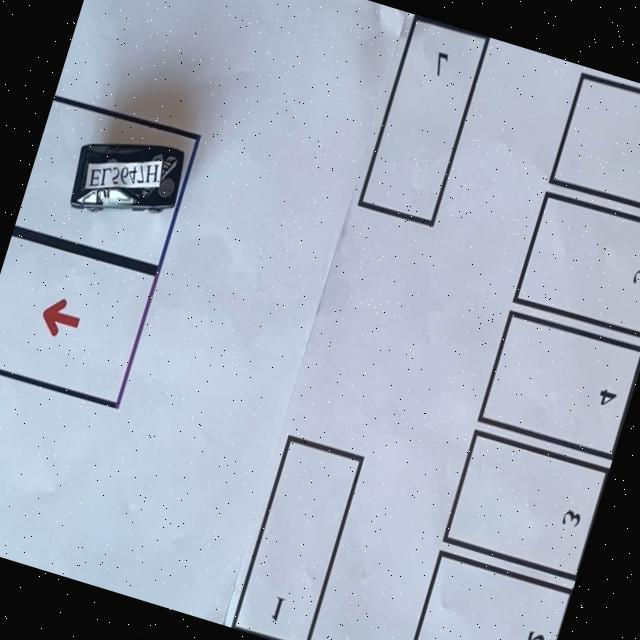car: (70, 143, 184, 210)
